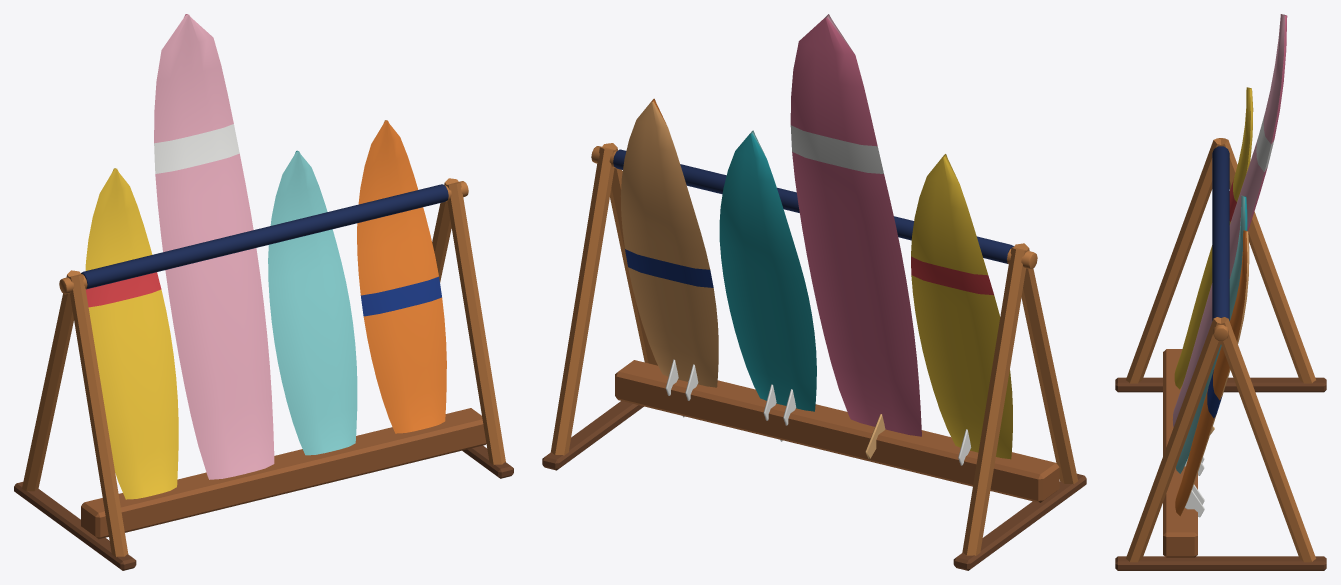
Rendered from suporte_pranchas_surfe.glb.
The picture shows the model from 3 angles, left to right: view 1: azimuth 30°, elevation 25°; view 2: azimuth 150°, elevation 25°; view 3: azimuth 270°, elevation 25°; orthographic projection. The views are drawn at different scales.
Visible parts, largest first — view 1: suporte_pranchas_surfe; view 2: suporte_pranchas_surfe; view 3: suporte_pranchas_surfe.
Part boxes in pixels (x1,y1,x2,y2): suporte_pranchas_surfe: (14,14,513,570); suporte_pranchas_surfe: (542,14,1086,570); suporte_pranchas_surfe: (1115,14,1326,570).
Size of the model in its own units: 2.56 by 2.78 by 1.2.
1 material, 1 textured.
